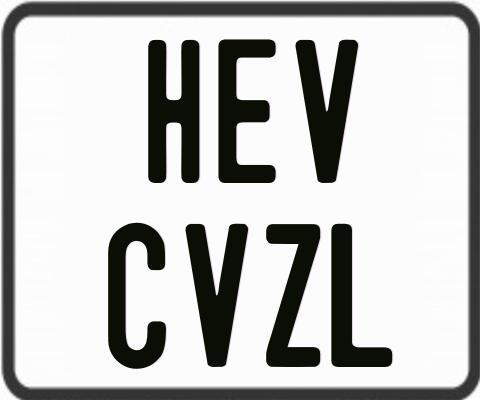C: (106, 221, 164, 368)
E: (218, 39, 280, 183)
H: (145, 37, 200, 183)
L: (330, 222, 394, 370)
V: (185, 222, 252, 369), (293, 38, 359, 185)
Z: (265, 224, 321, 367)
